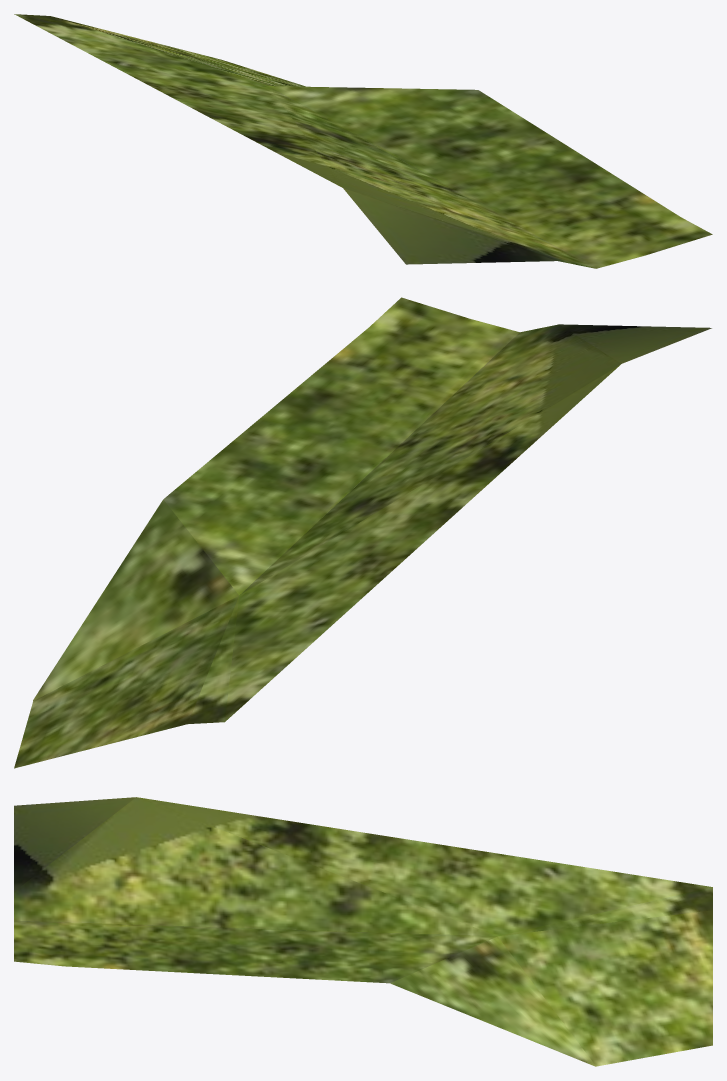
3 renders of one model, top to bottom at view 1: azimuth 30°, elevation 25°; view 2: azimuth 150°, elevation 25°; view 3: azimuth 270°, elevation 25°, orthographic. The views are drawn at different scales.
Bounding box in the file's own units: 1.2 × 0.7216 × 2.95.
1 material, 1 textured.
